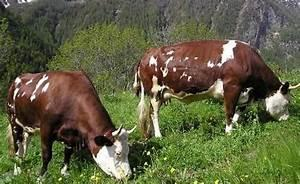cow: (132, 38, 299, 139), (5, 68, 137, 182)
